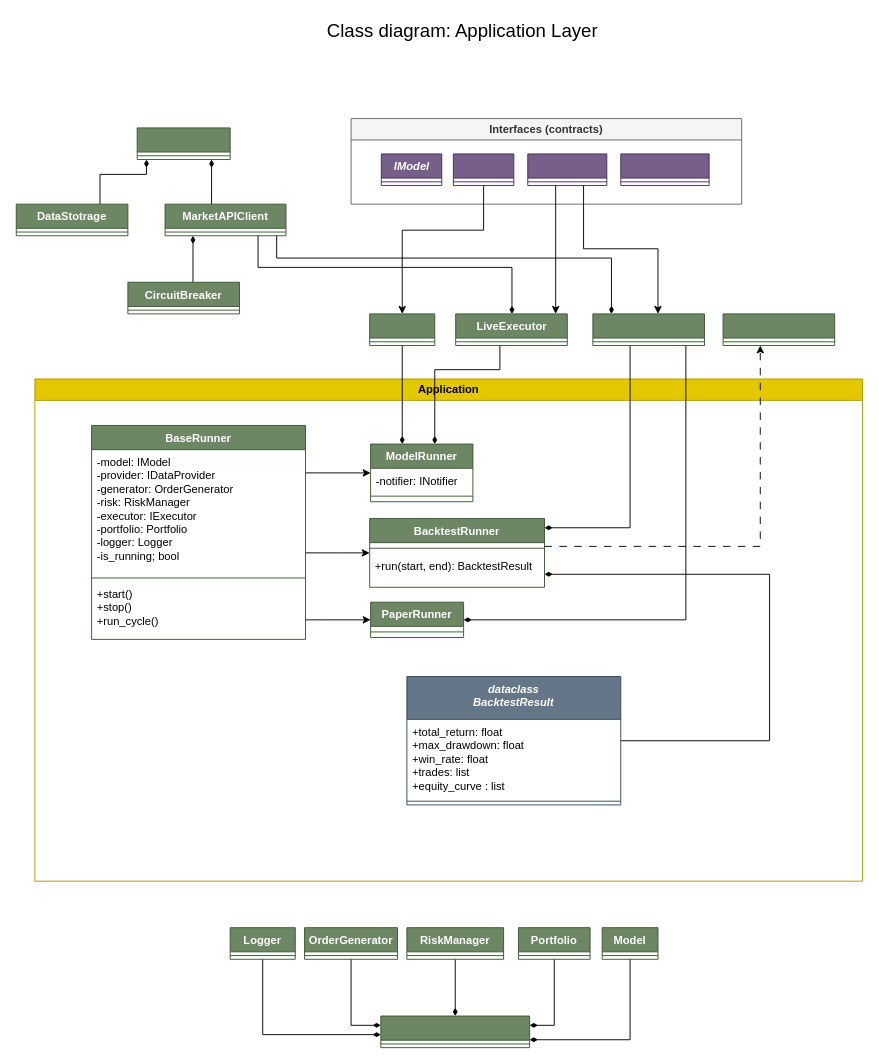
This 879x1064 diagram has some shape labels left out. Here are the shapes that lost their labels. From the top down, the centre of each, then its label:
point (183, 143): DataUpdater
point (483, 169): INotifier
point (567, 169): IExecutor
point (664, 169): IDataProvider
point (402, 329): Notifier
point (648, 329): SimulatedExecutor
point (778, 329): MarketStats
point (455, 1031): Child BaseRunner
